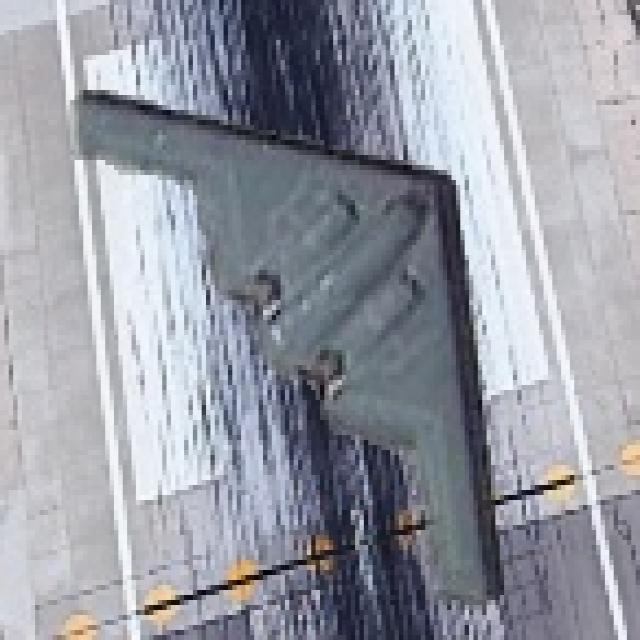B-2_TopDown: (66, 80, 508, 635)
